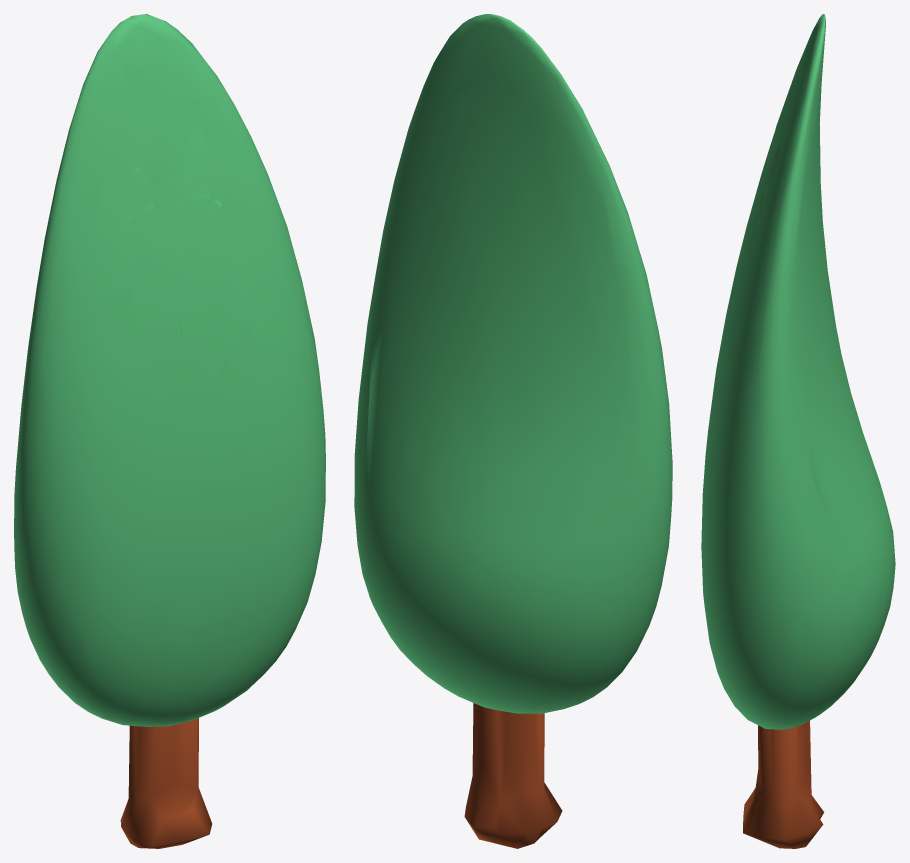
The model's file is arbre.glb.
3 views of the same model, side by side, from view 1: azimuth 30°, elevation 25°; view 2: azimuth 150°, elevation 25°; view 3: azimuth 270°, elevation 25° (orthographic). The views are drawn at different scales.
Parts seen in each view (by area): view 1: Cylinder.001; view 2: Cylinder.001; view 3: Cylinder.001.
Boxes of the visible parts, <box> form: Cylinder.001: <box>14,14,325,848</box>; Cylinder.001: <box>354,14,672,848</box>; Cylinder.001: <box>701,14,895,848</box>.
Size of the model in its own units: 0.8523 by 2.23 by 0.4803.
